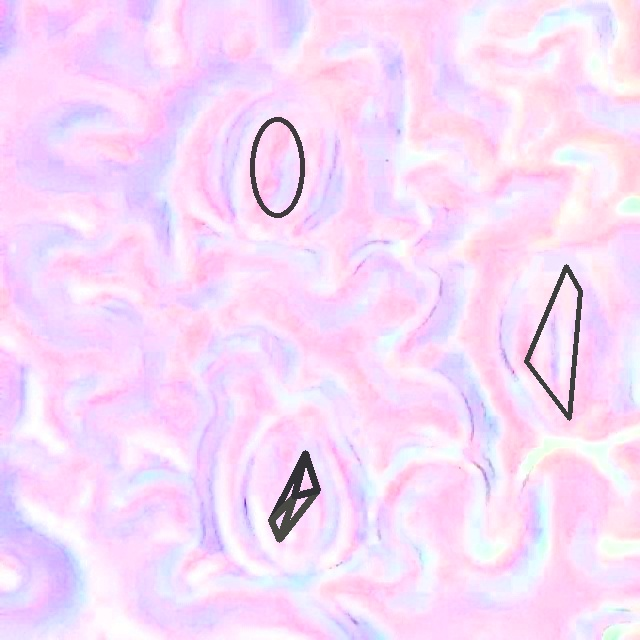close: (268, 450, 320, 542)
open: (524, 264, 581, 419), (249, 116, 306, 218)
